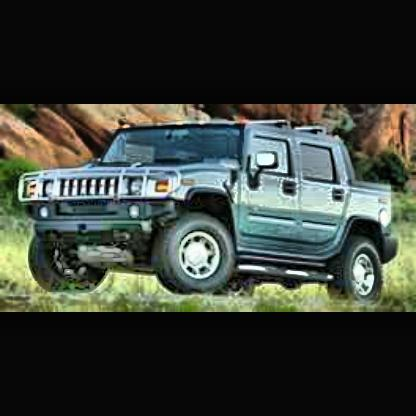HUMMER H2 SUT Crew Cab 2009: (20, 126, 401, 305)
